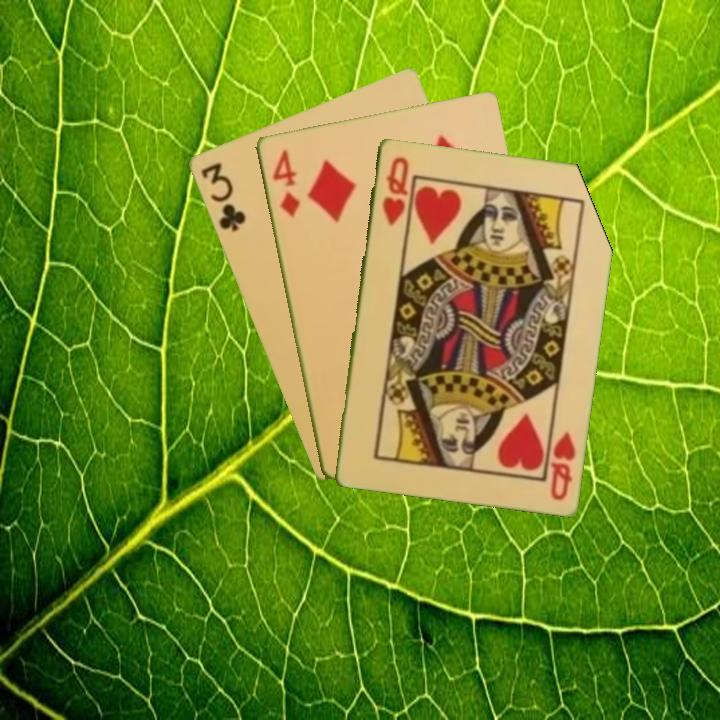3c: (197, 158, 248, 235)
4d: (268, 145, 303, 220)
Qh: (378, 152, 412, 228), (546, 427, 578, 503)
